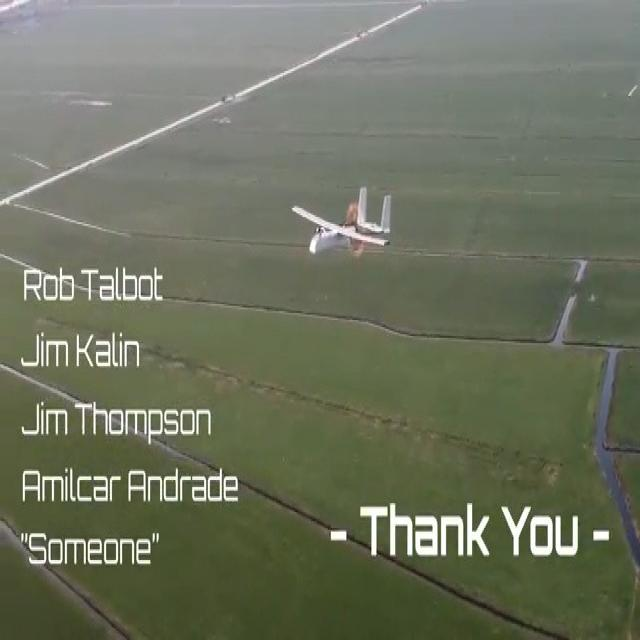iha: (322, 213, 366, 233)
